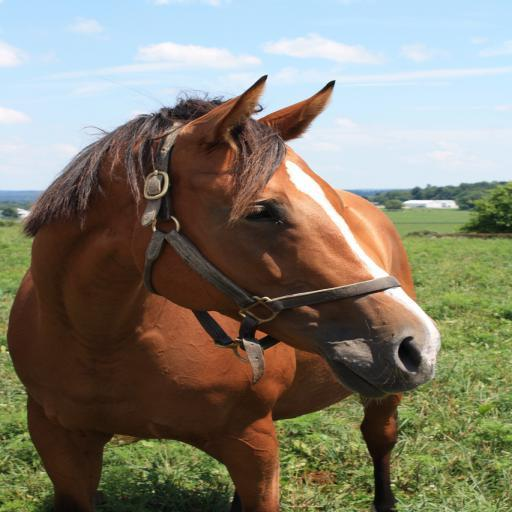Horse: (4, 70, 446, 512)
